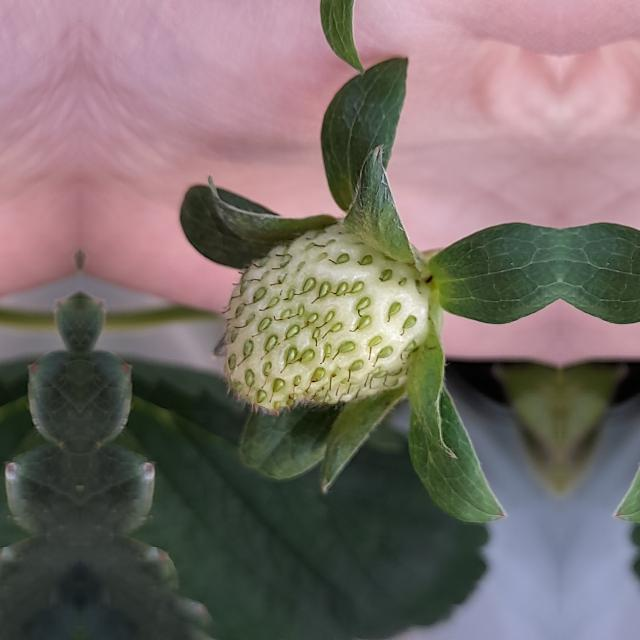Health_25: (213, 224, 429, 416)
